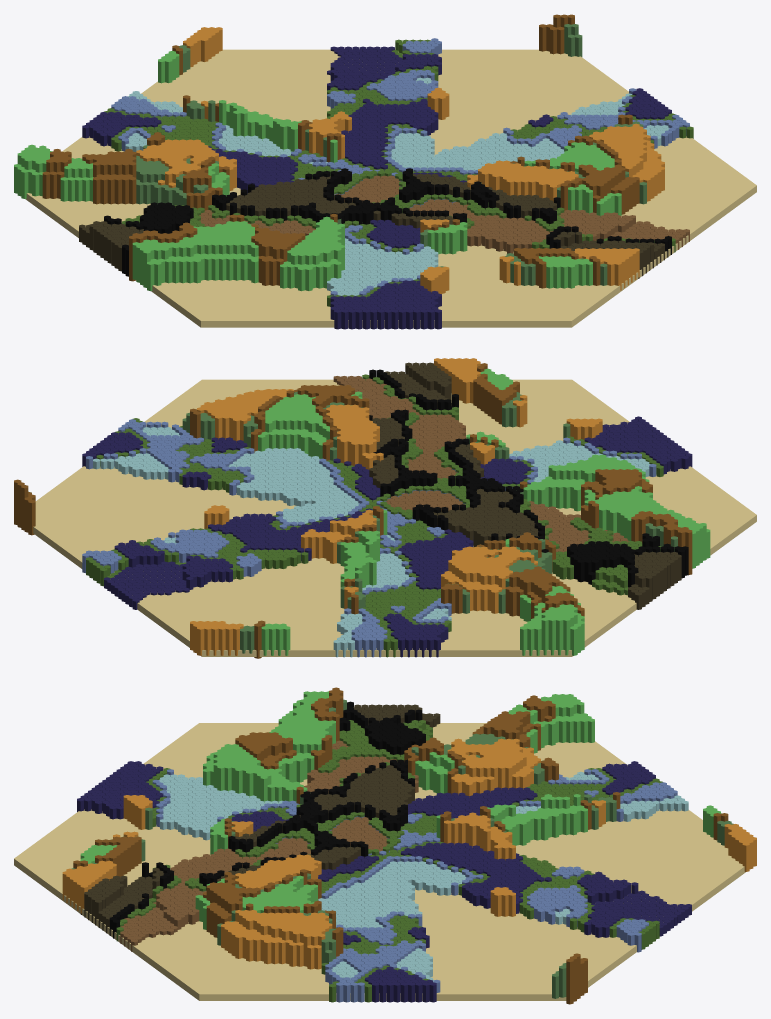
The model's file is 0053_tile_1010001.fbx.
3 renders of one model, top to bottom at view 1: azimuth 30°, elevation 25°; view 2: azimuth 150°, elevation 25°; view 3: azimuth 270°, elevation 25°, orthographic.
Visible parts, largest first — view 1: Plane; view 2: Plane; view 3: Plane.
Boxes of the visible parts, <box> form: Plane: <box>14,14,756,329</box>; Plane: <box>14,358,756,658</box>; Plane: <box>14,687,756,1004</box>.
Bounding box in the file's own units: 1008 × 72.41 × 1152.
